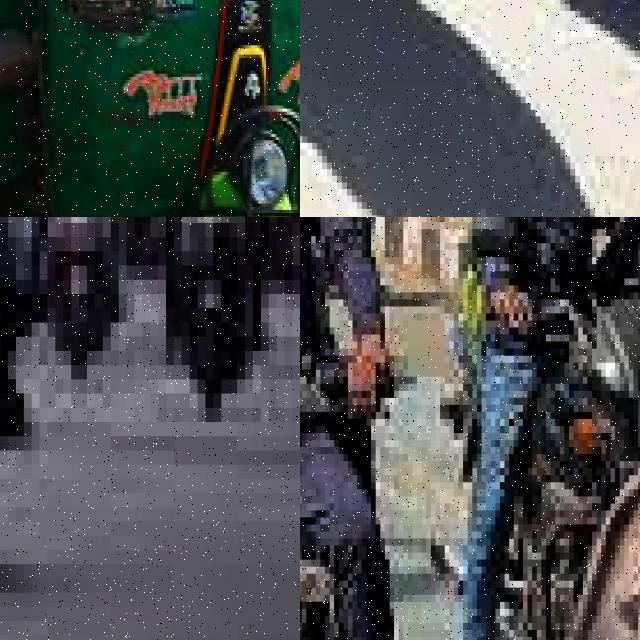bike: (412, 257, 640, 637), (158, 217, 284, 436), (0, 217, 63, 592), (47, 217, 134, 393)
